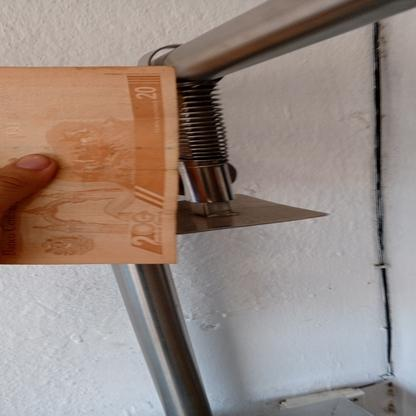twenty-back-vef: (0, 66, 179, 263)
